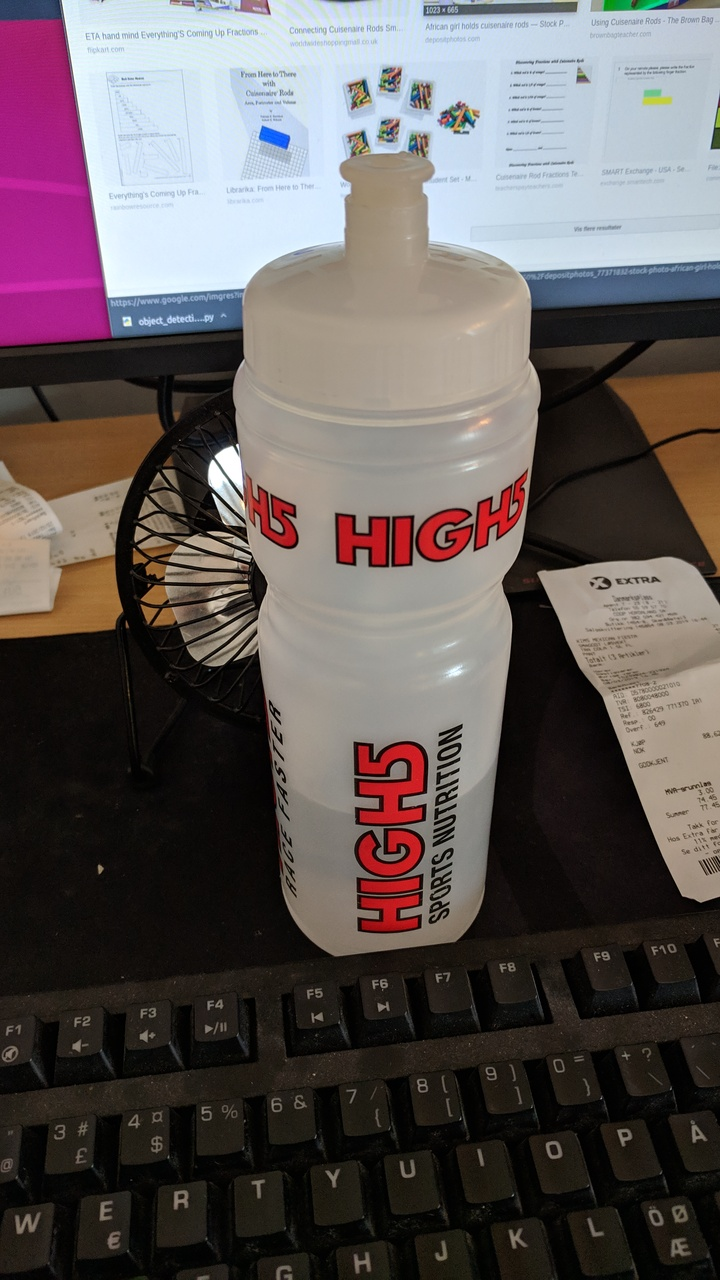high five bottle: (227, 143, 551, 974)
